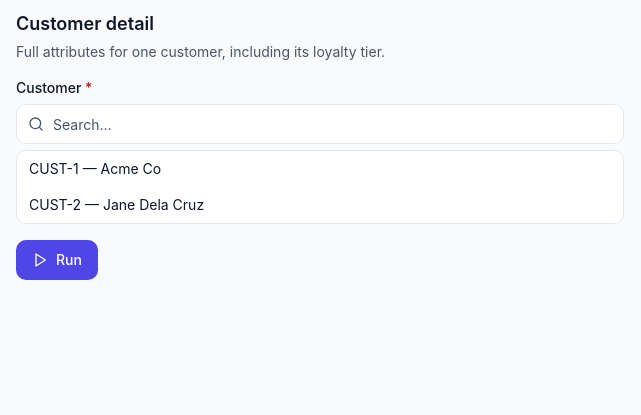
Test case: CRM manifest — US1 customers + tiers › customer: picks a customer and shows detail with the loyalty tier resolved
The image size is (641, 415).
Click the button "CUST-1 — Acme Co" at (95, 168), box [17, 151, 623, 187]
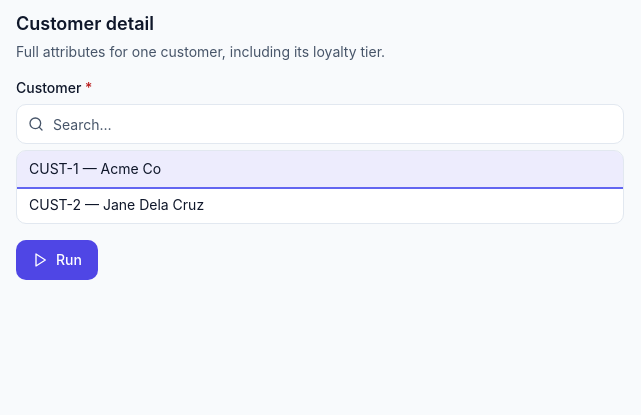
Click the button "Run" at (57, 260), box [16, 240, 98, 280]
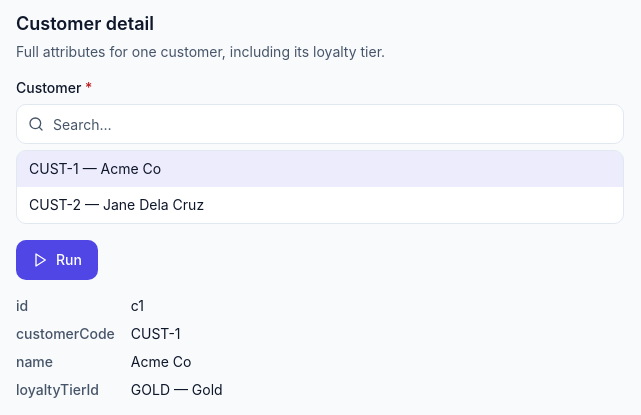
expect the text "GOLD — Gold" is shown: met, box [131, 381, 223, 398]
